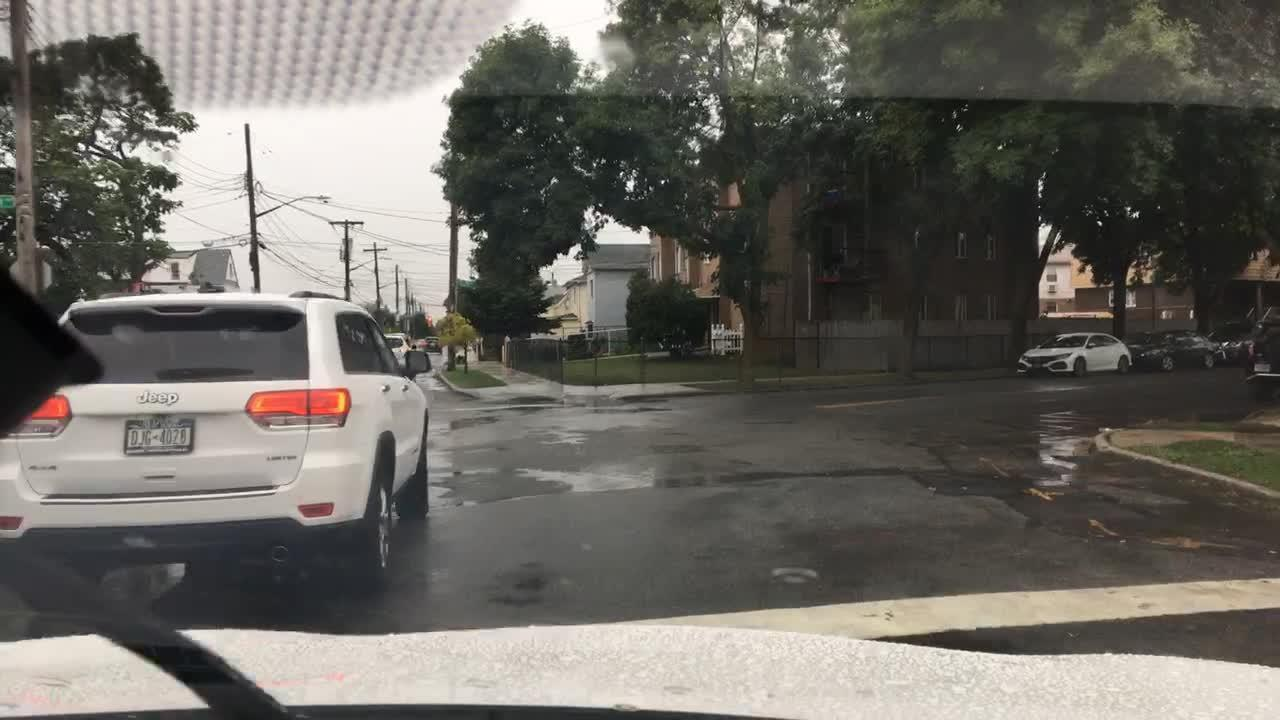jeep: (130, 383, 181, 412)
